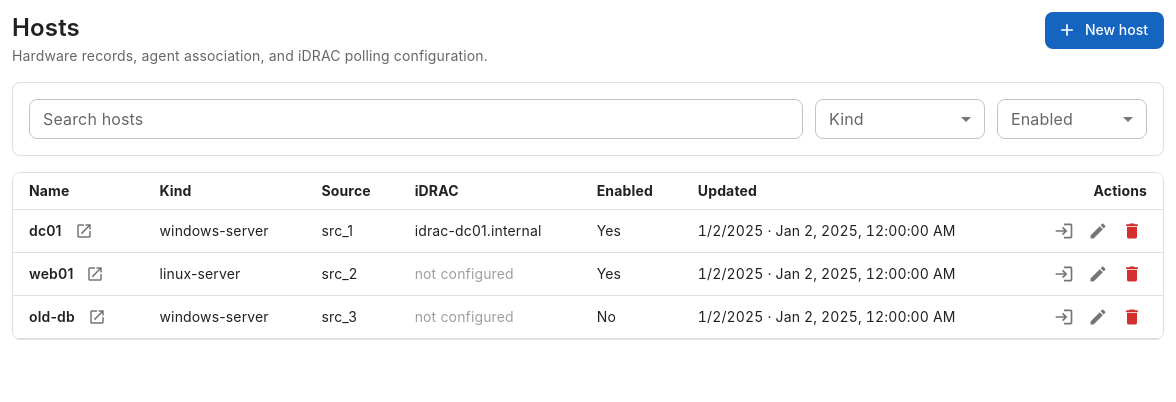
Scenario: HostsPage filters › filters by kind and enabled state, with a clear action
Check: the text "dc01" is shown, box [29,221,62,241]
Note: Kind: only linux-server remains.
Click the 1st dropdown named "Kind". click: (900, 119)
box: [815,99,985,139]
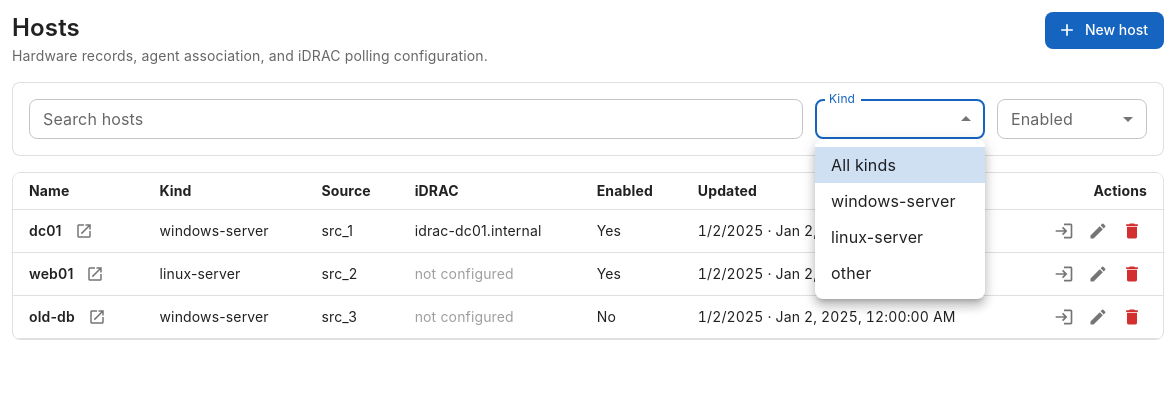
Click the option "linux-server". click: (877, 237)
box: [831,227,923,247]
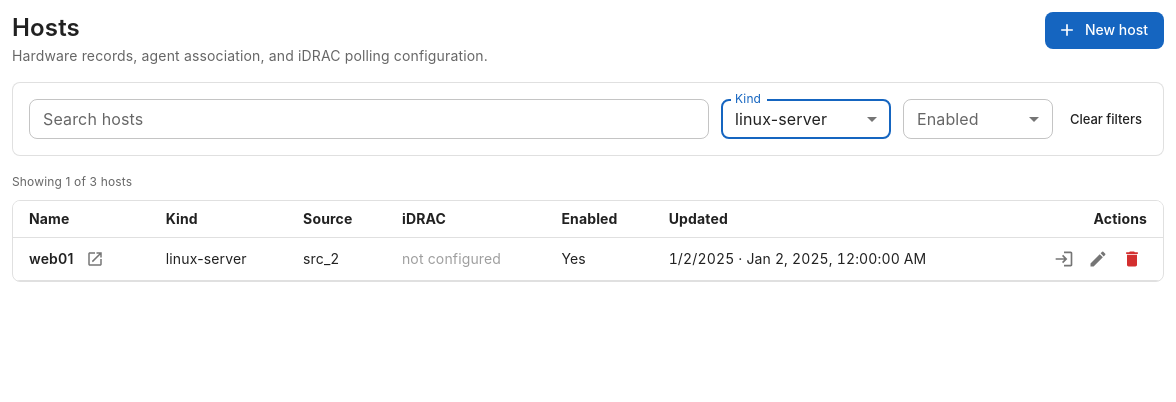
Check: the text "web01" is shown, box [29,249,74,269]
Check: the text "dc01" is gone
Check: the text "old-db" is gone
Click the dropdown named "Enabled". click: (978, 119)
box: [903,99,1053,139]
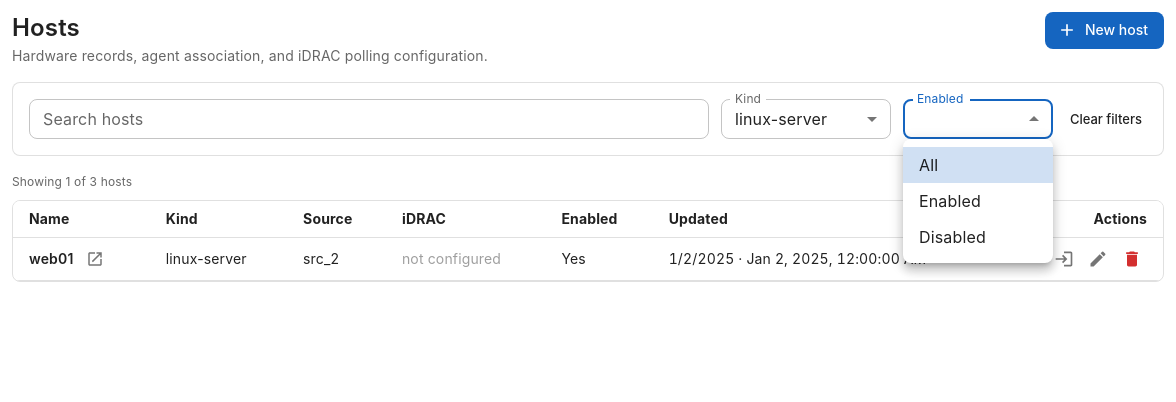
Click the option "Disabled". click: (952, 237)
box: [919,227,986,247]
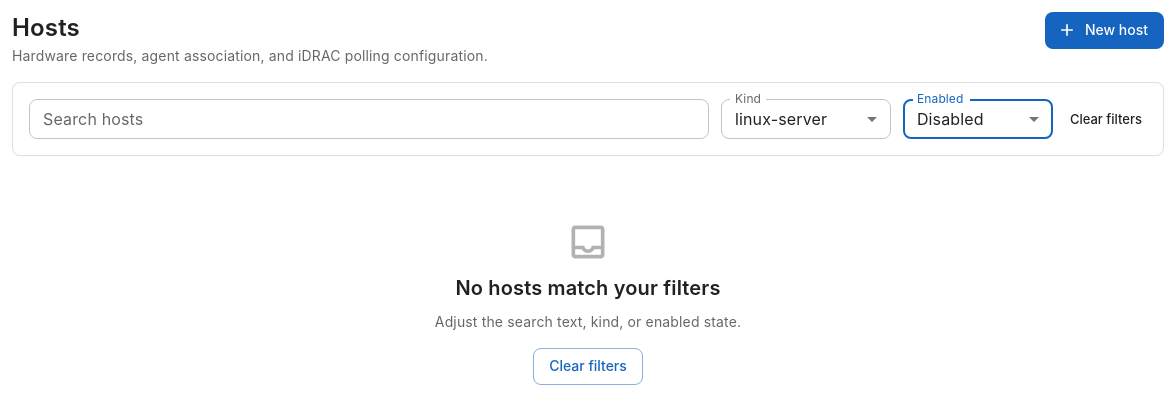
Check: the heading "No hosts match your filters" is shown, box [455,272,721,304]
Click the button "Clear filters" below "No hosts match your filters". click: (588, 366)
box: [533,348,643,384]
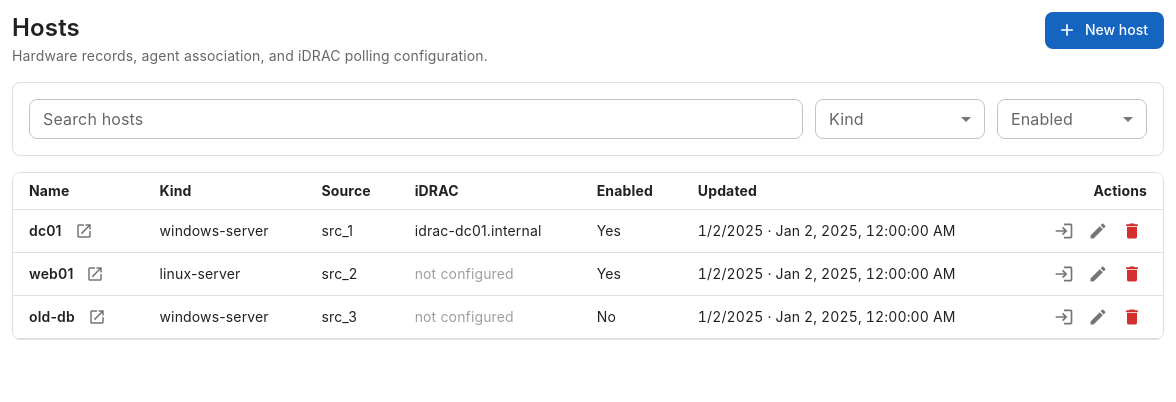
Check: the text "dc01" is shown, box [29,221,62,241]
Check: the text "web01" is shown, box [29,264,74,284]
Check: the text "old-db" is shown, box [29,307,75,327]
